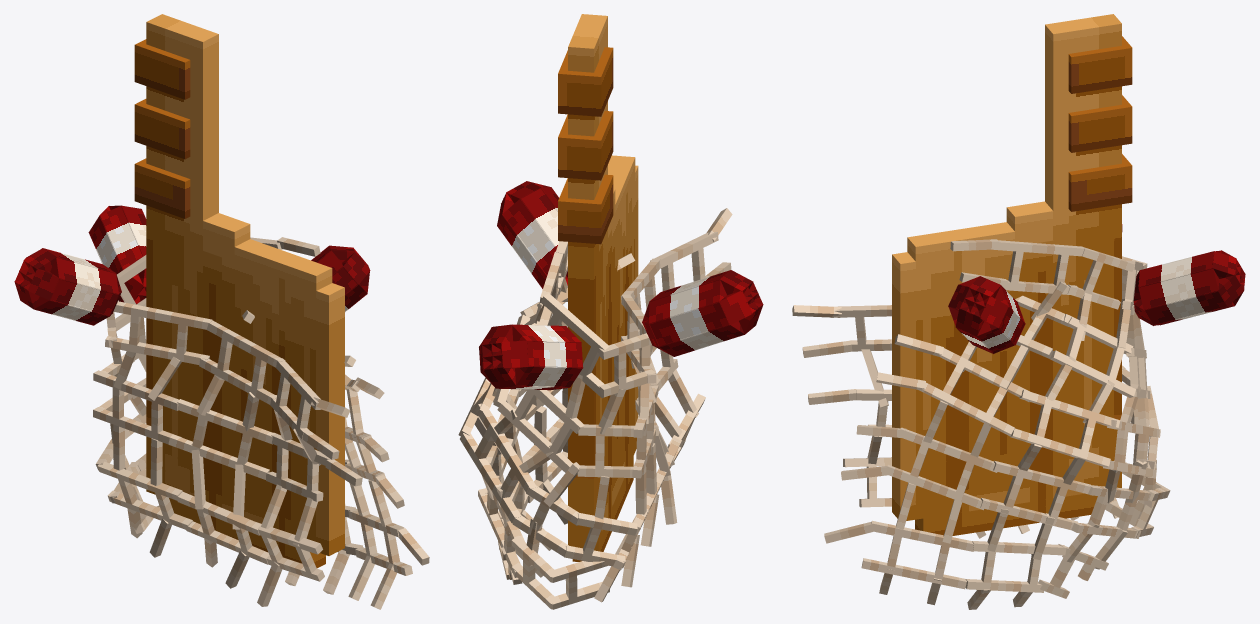
The model's file is rudder_trap.gltf.
3 renders of one model, left to right at view 1: azimuth 30°, elevation 25°; view 2: azimuth 150°, elevation 25°; view 3: azimuth 270°, elevation 25°, orthographic. The views are drawn at different scales.
Visible parts, largest first — view 1: rudder_trap_lg-Local, netting02BBBC-Local, netting02BBBC22-Local, netting02BBBD-Local, netting02BBBC2-Local, float01B-Local, netting02BBD-Local, netting02BBD2-Local, float_large04-Local, netting02BBBC222-Local, netting02BBD3-Local, netting04-Local (+14 smaller); view 2: rudder_trap_lg-Local, float01B-Local, netting02BB-Local, float_large04-Local, float01B$$(2)-Local, netting01BB-Local, float_large03-Local, float01B$$(3)-Local, float_large02-Local, netting01B-ABB-Local, netting02BBBBB2-Local, netting02BBBBB4-Local (+32 smaller); view 3: rudder_trap_lg-Local, float_large02-Local, netting04-Local, netting02B-Local, netting03-Local, netting03B-Local, netting02-Local, netting01B-Local, float01B$$(2)-Local, netting04B-Local, netting01B-A02-Local, netting03BB-Local (+22 smaller).
Boxes of the visible parts, bbox=[...] form: rudder_trap_lg-Local: bbox=[134, 14, 344, 568]; netting02BBBC-Local: bbox=[105, 301, 212, 364]; netting02BBBC22-Local: bbox=[168, 399, 275, 479]; netting02BBBD-Local: bbox=[199, 320, 285, 404]; netting02BBBC2-Local: bbox=[93, 370, 182, 444]; float01B-Local: bbox=[27, 248, 118, 325]; netting02BBD-Local: bbox=[97, 461, 192, 530]; netting02BBD2-Local: bbox=[177, 492, 269, 564]; float_large04-Local: bbox=[22, 248, 118, 325]; netting02BBBC222-Local: bbox=[266, 432, 330, 501]; netting02BBD3-Local: bbox=[257, 522, 324, 581]; netting04-Local: bbox=[348, 508, 412, 575]; rudder_trap_lg-Local: bbox=[558, 14, 638, 561]; float01B-Local: bbox=[649, 270, 744, 356]; netting02BB-Local: bbox=[460, 403, 537, 523]; float_large04-Local: bbox=[649, 271, 748, 356]; float01B$$(2)-Local: bbox=[480, 324, 583, 390]; netting01BB-Local: bbox=[497, 389, 584, 472]; float_large03-Local: bbox=[497, 187, 559, 288]; float01B$$(3)-Local: bbox=[497, 187, 567, 288]; float_large02-Local: bbox=[479, 324, 582, 389]; netting01B-ABB-Local: bbox=[532, 293, 609, 398]; netting02BBBBB2-Local: bbox=[564, 512, 637, 568]; netting02BBBBB4-Local: bbox=[599, 333, 656, 397]; rudder_trap_lg-Local: bbox=[892, 14, 1132, 535]; float_large02-Local: bbox=[1138, 251, 1233, 325]; netting04-Local: bbox=[861, 520, 973, 589]; netting02B-Local: bbox=[1010, 390, 1120, 467]; netting03-Local: bbox=[884, 427, 997, 510]; netting03B-Local: bbox=[980, 460, 1091, 529]; netting02-Local: bbox=[919, 345, 1029, 436]; netting01B-Local: bbox=[1050, 314, 1135, 397]; float01B$$(2)-Local: bbox=[1138, 250, 1234, 325]; netting04B-Local: bbox=[965, 541, 1066, 592]; netting01B-A02-Local: bbox=[994, 240, 1085, 294]; netting03BB-Local: bbox=[1071, 485, 1151, 538].
Size of the model in its own units: 41.39 by 74.13 by 55.77.
Materials: 92 (92 with a texture image).
